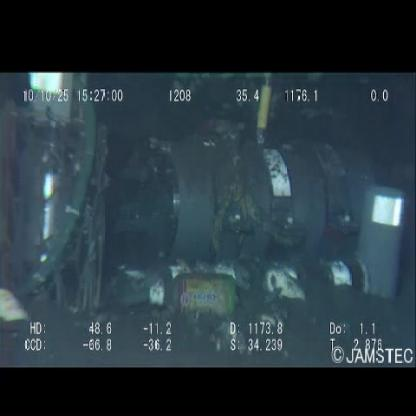Rov: (1, 82, 414, 313)
Rác: (147, 270, 241, 320)
